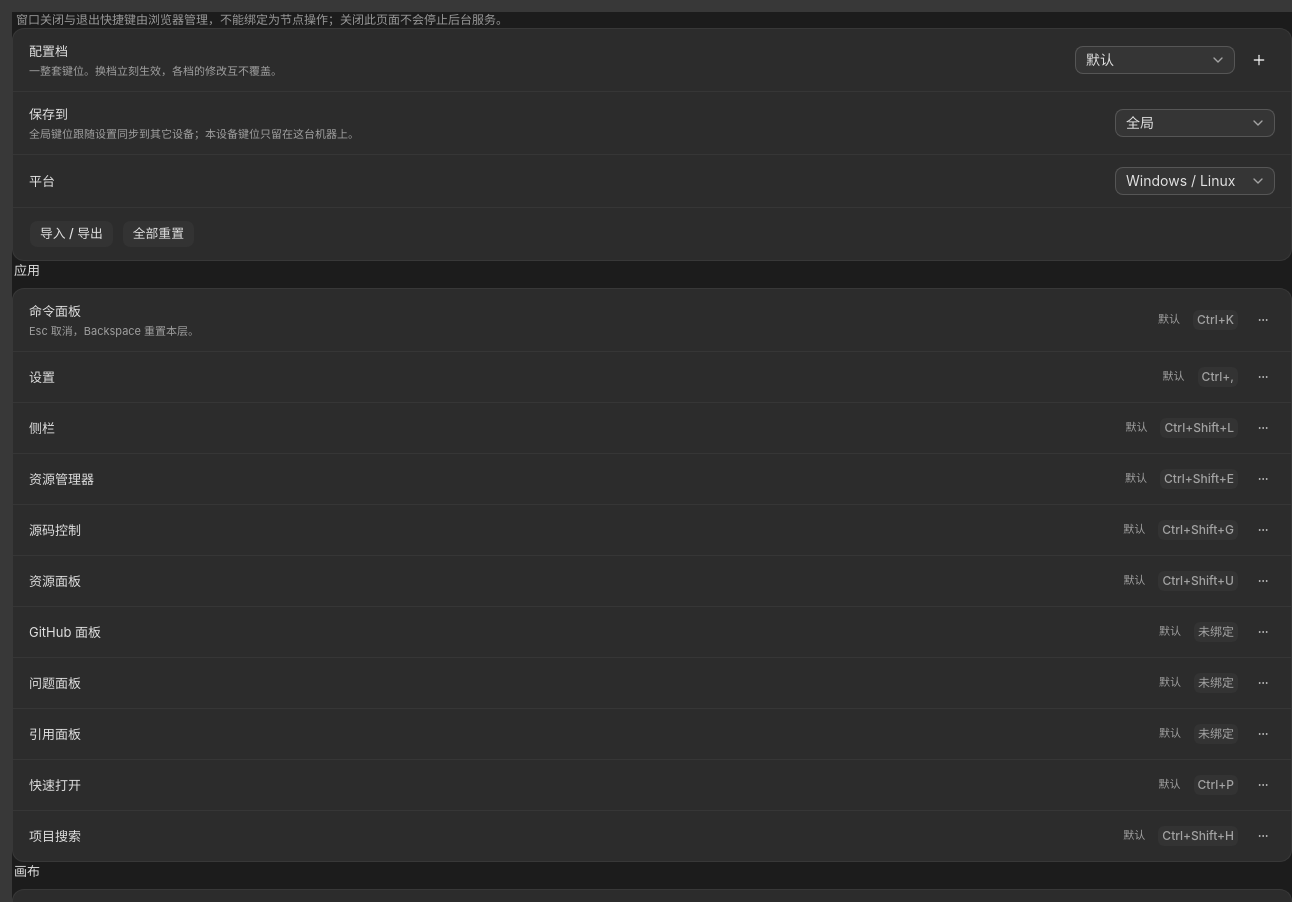
Test case: KeybindingsPage › 选「本设备」后录制只落在本机，不写 Runtime 设置
Expected: the button with aria-label "命令面板" is shown, [1188, 307, 1243, 333]
Click the dropdown "全局" at (1195, 123), box [1115, 109, 1275, 137]
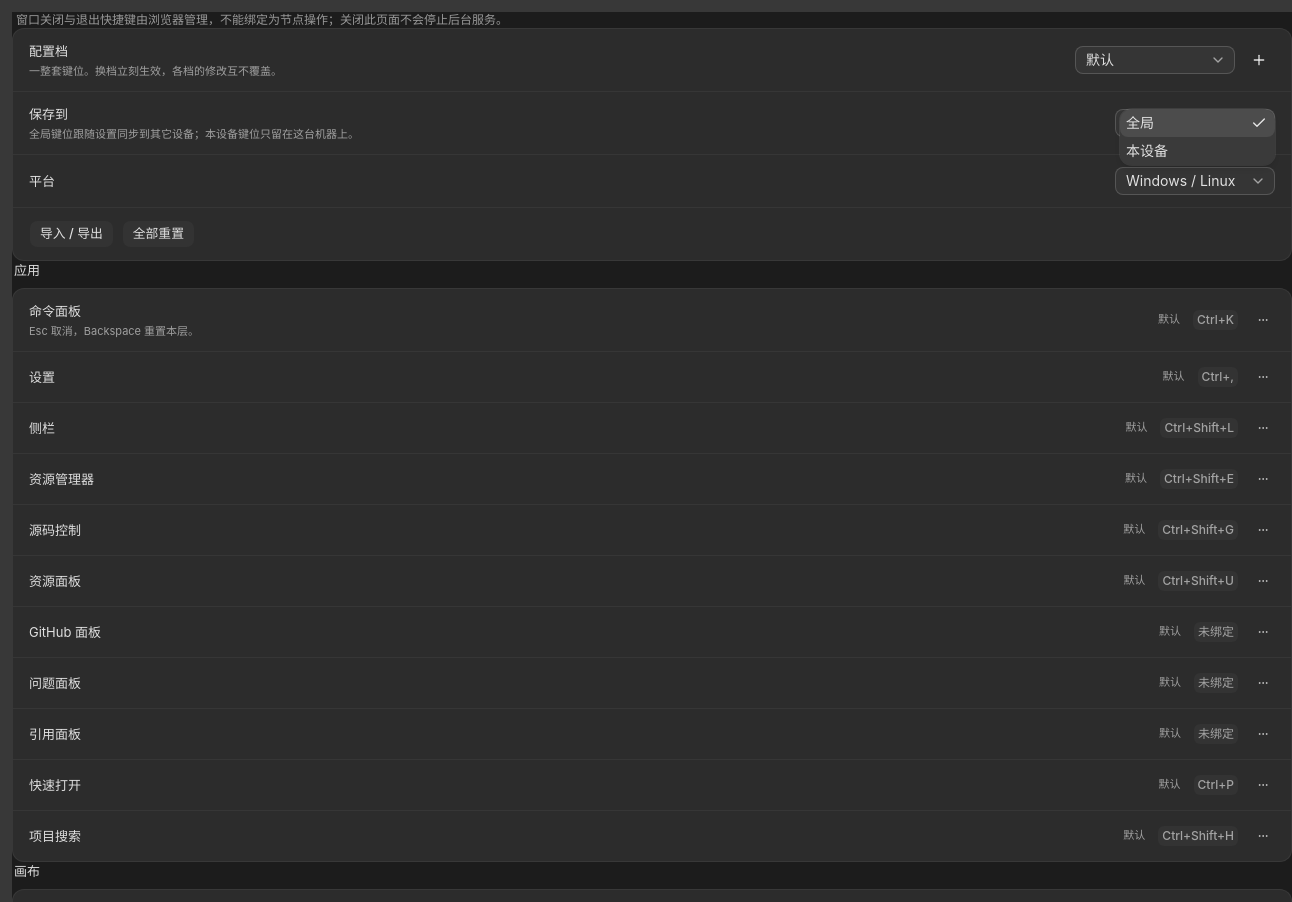
Click the option "本设备" at (1147, 150), box [1126, 142, 1168, 159]
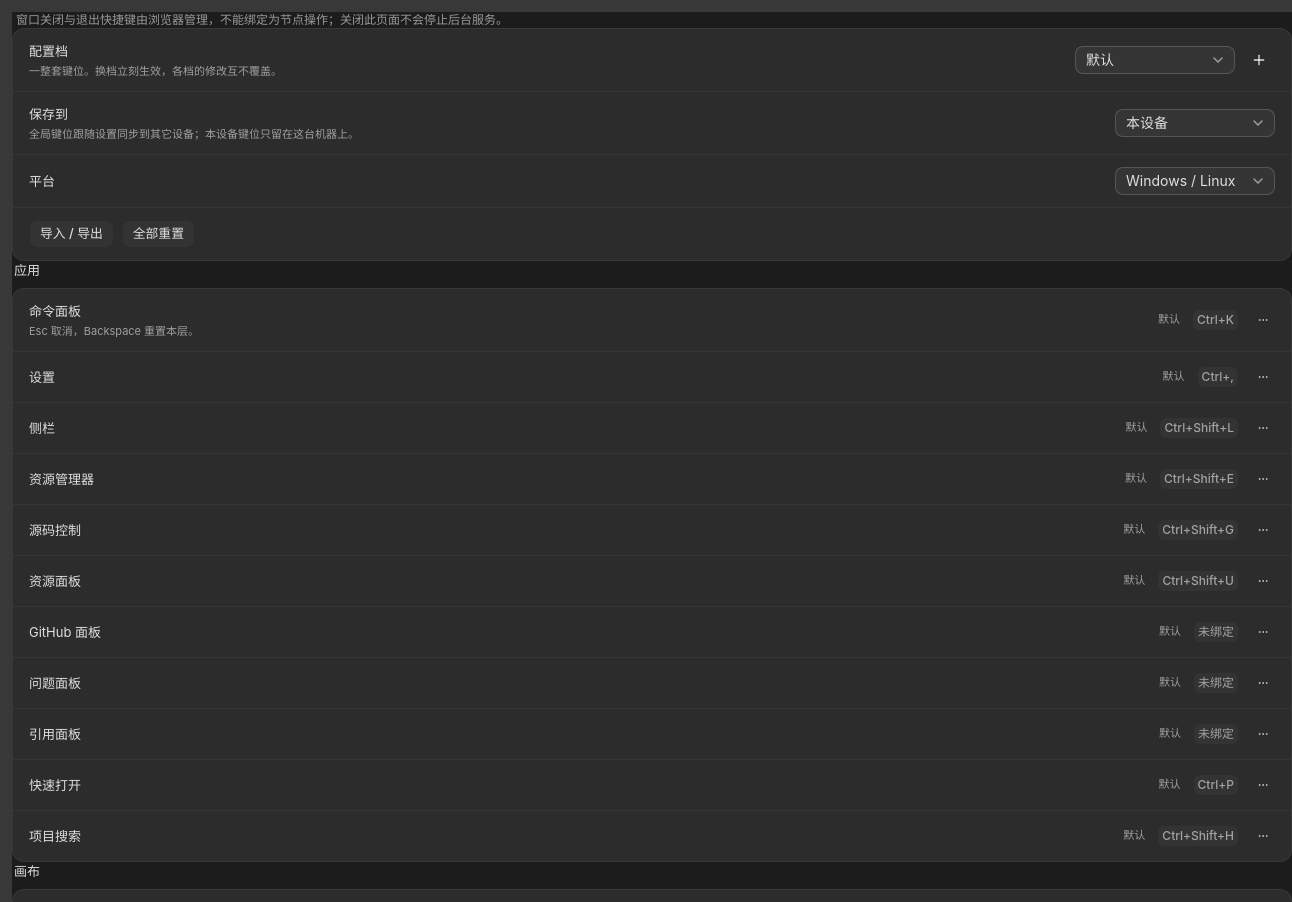
Click the button with aria-label "命令面板" at (1216, 320), box [1188, 307, 1243, 333]
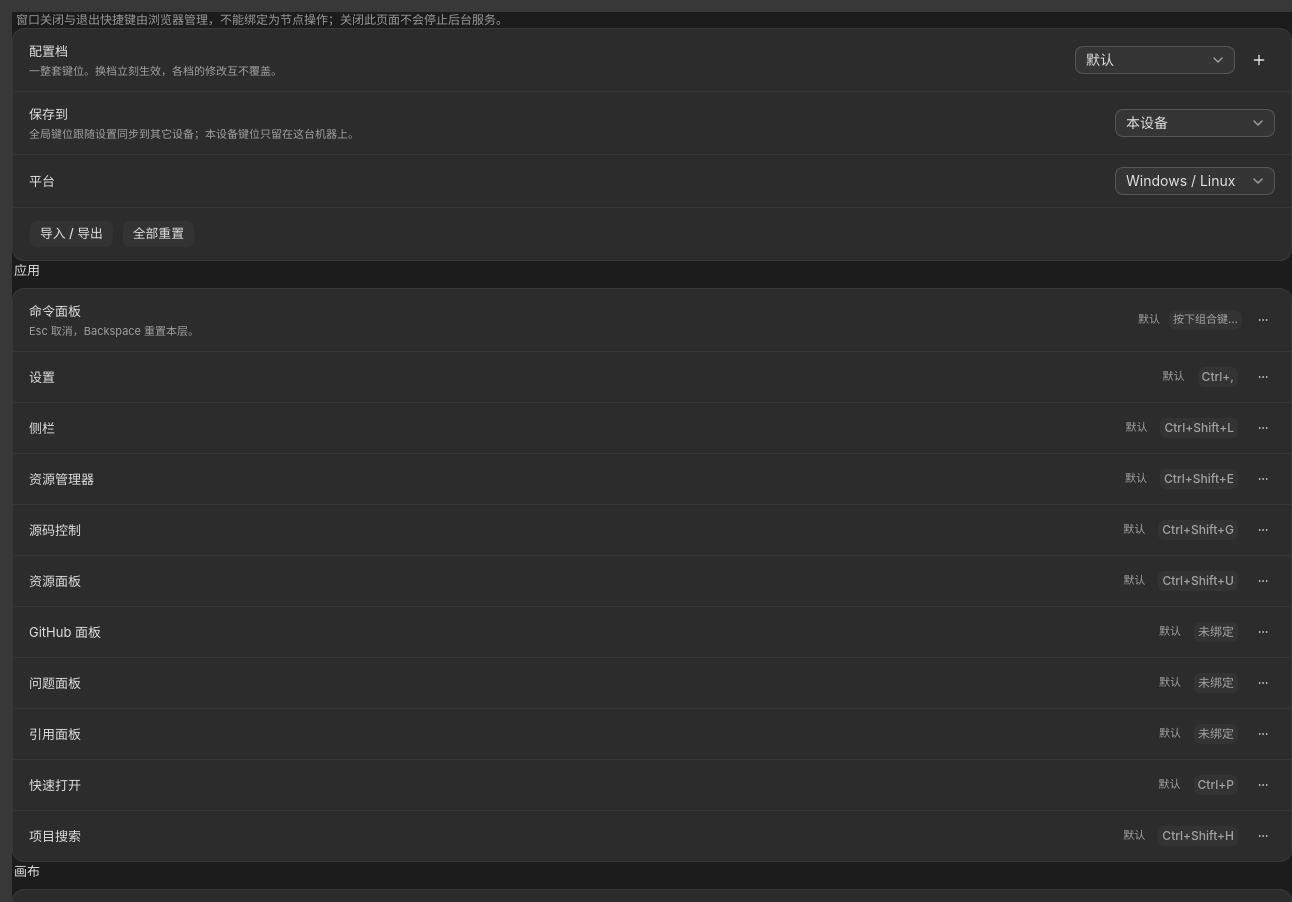
Press j
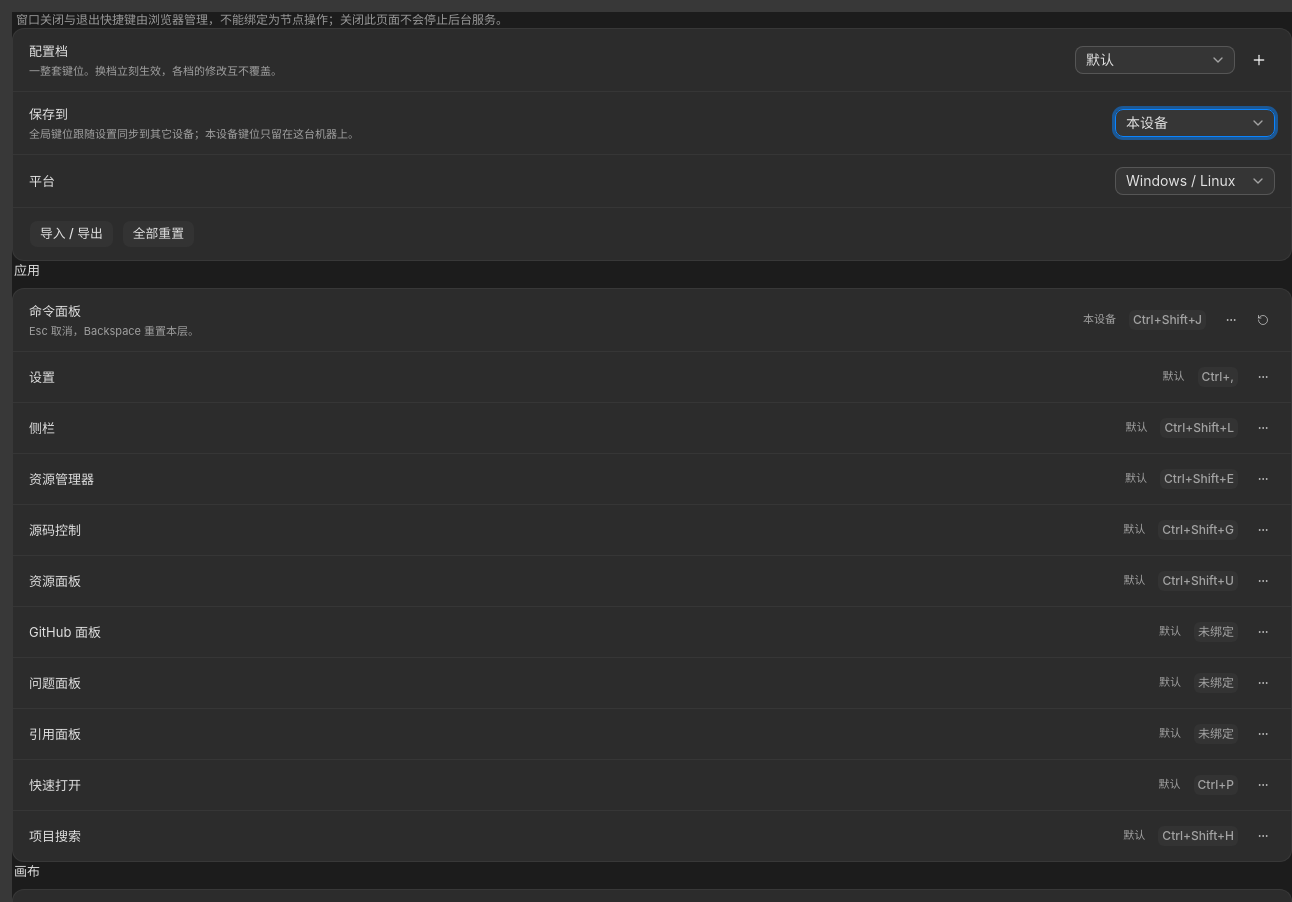
Now the element labelled "命令面板" shows "本设备", box [1083, 312, 1116, 326]
